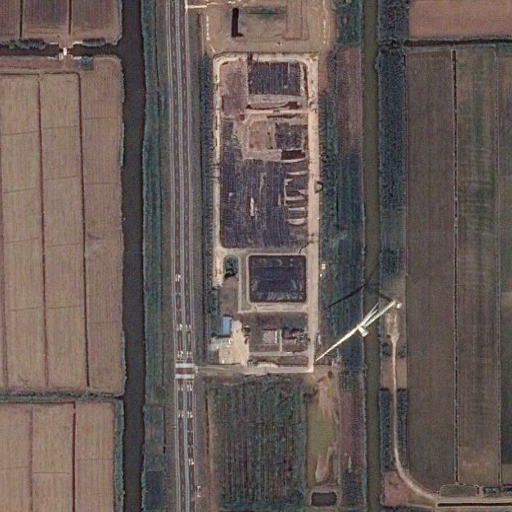lf: (213, 52, 312, 247)
